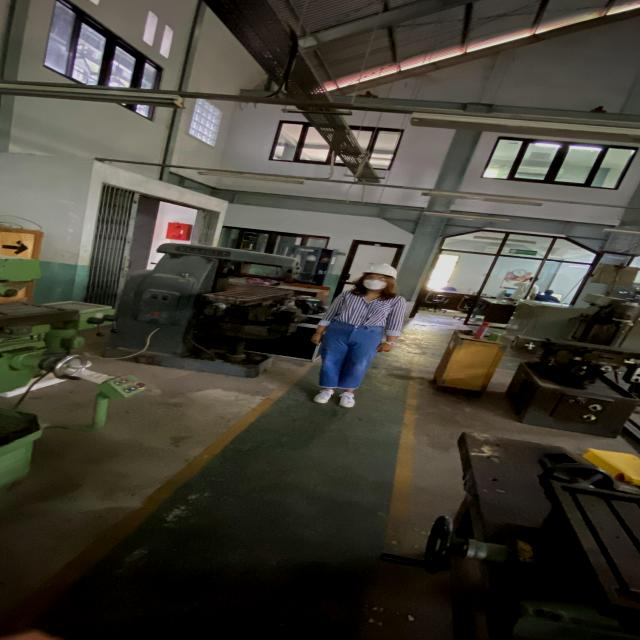face_mask: (361, 274, 391, 290)
glasses: (360, 276, 389, 281)
hand_noglove: (373, 342, 396, 354), (307, 333, 325, 346)
head_helmet: (362, 263, 401, 277)
person: (306, 261, 420, 411)
shoes: (311, 387, 338, 406), (336, 389, 358, 408)
